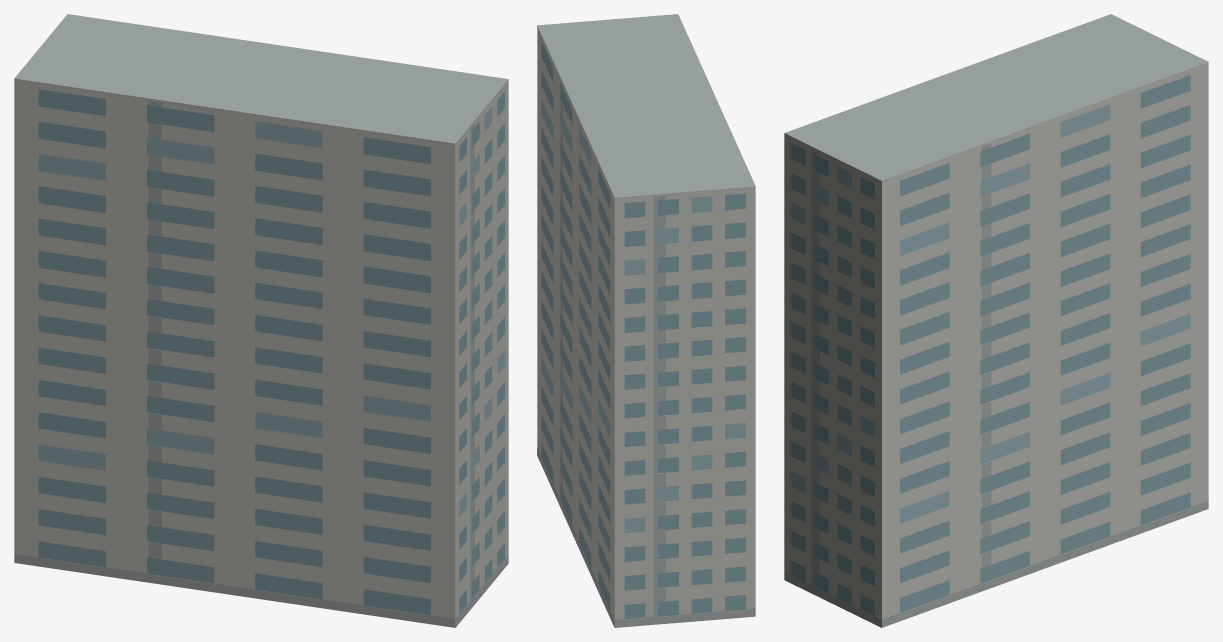
File: residential-95d8791a-4522-4e5f-91c9-21810dbf604b.glb
3 views of the same model, side by side, from view 1: azimuth 30°, elevation 25°; view 2: azimuth 150°, elevation 25°; view 3: azimuth 270°, elevation 25° (orthographic). The views are drawn at different scales.
Visible parts, largest first — view 1: residential-95d8791a-4522-4e5f-91c9-21810dbf604b.tmp; view 2: residential-95d8791a-4522-4e5f-91c9-21810dbf604b.tmp; view 3: residential-95d8791a-4522-4e5f-91c9-21810dbf604b.tmp.
Part boxes in pixels (bbox=[...]): residential-95d8791a-4522-4e5f-91c9-21810dbf604b.tmp: bbox=[14, 14, 508, 627]; residential-95d8791a-4522-4e5f-91c9-21810dbf604b.tmp: bbox=[537, 14, 755, 627]; residential-95d8791a-4522-4e5f-91c9-21810dbf604b.tmp: bbox=[784, 14, 1208, 627].
Bounding box in the file's own units: 36.61 × 45.75 × 39.35.
